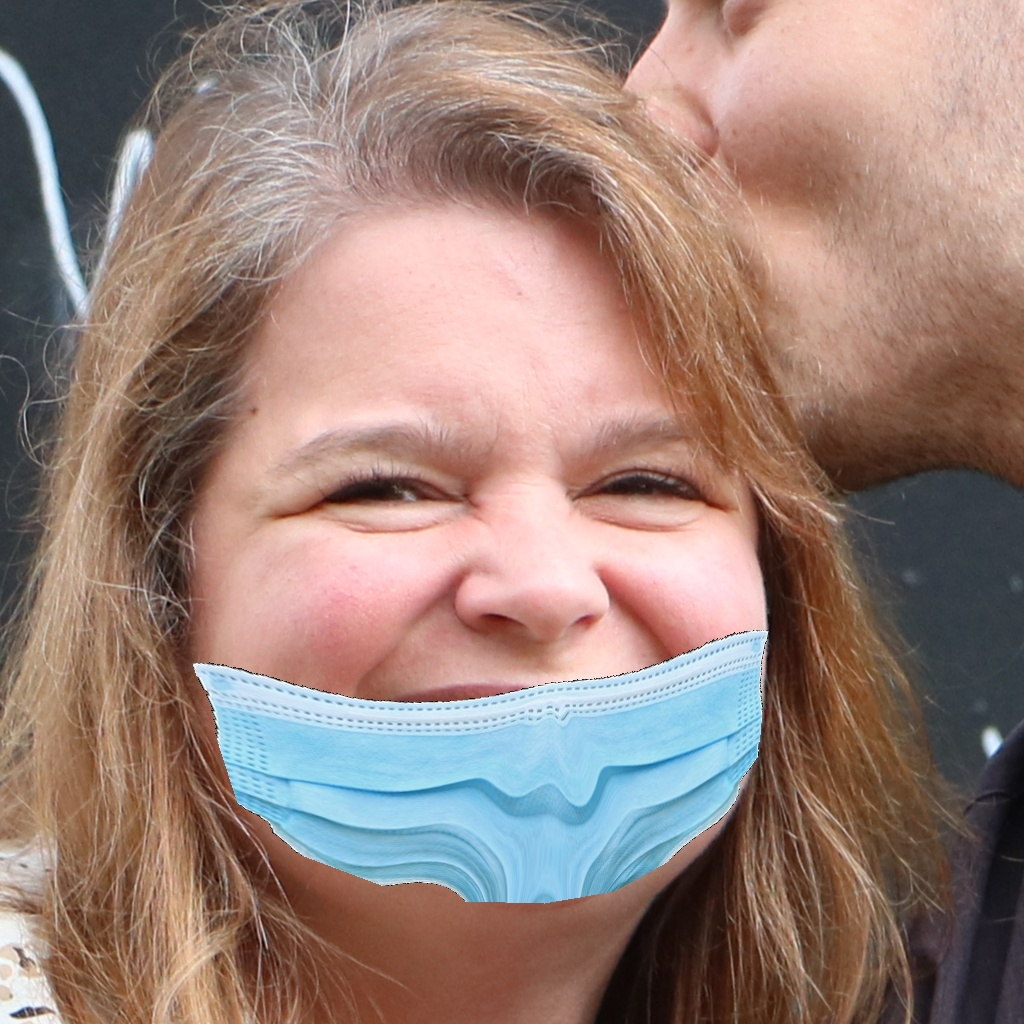mascarilla_mal_puesta: (164, 320, 824, 930)
